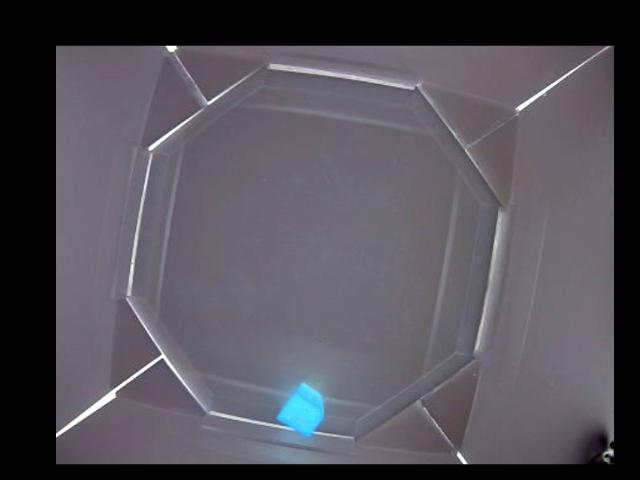Carrot: (276, 385, 326, 438)
